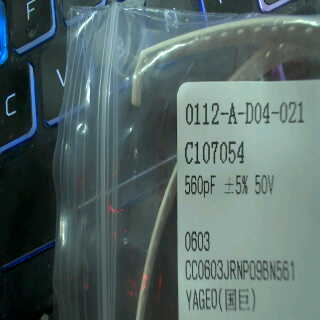560pF: (180, 171, 222, 200)
